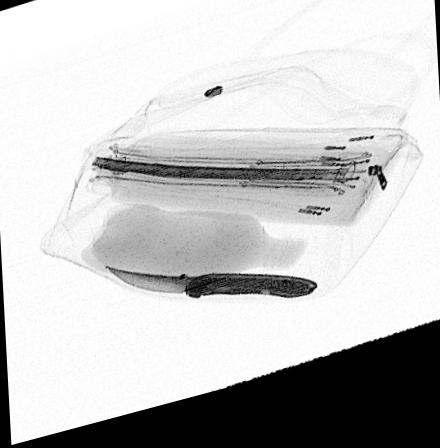Knife: (101, 270, 321, 316)
